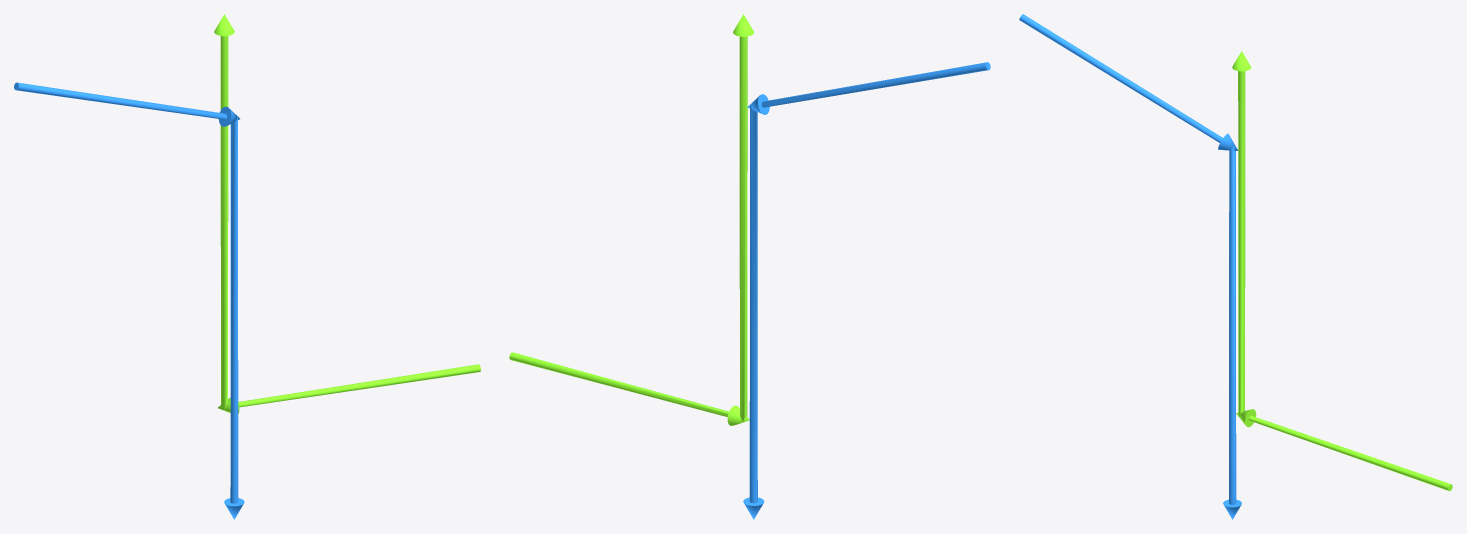
Rendered from degasser_tower_flow.glb.
3 renders of one model, left to right at view 1: azimuth 30°, elevation 25°; view 2: azimuth 150°, elevation 25°; view 3: azimuth 330°, elevation 25°, orthographic. The views are drawn at different scales.
Parts seen in each view (by area): view 1: water, air; view 2: air, water; view 3: water, air.
Boxes of the visible parts, x1,y1,x2,y2 form: water: [14, 82, 244, 519]; air: [214, 14, 480, 413]; air: [509, 14, 753, 425]; water: [743, 62, 990, 519]; water: [1019, 14, 1241, 519]; air: [1232, 51, 1452, 491].
Size of the model in its own units: 2.71 by 2.78 by 0.222.
